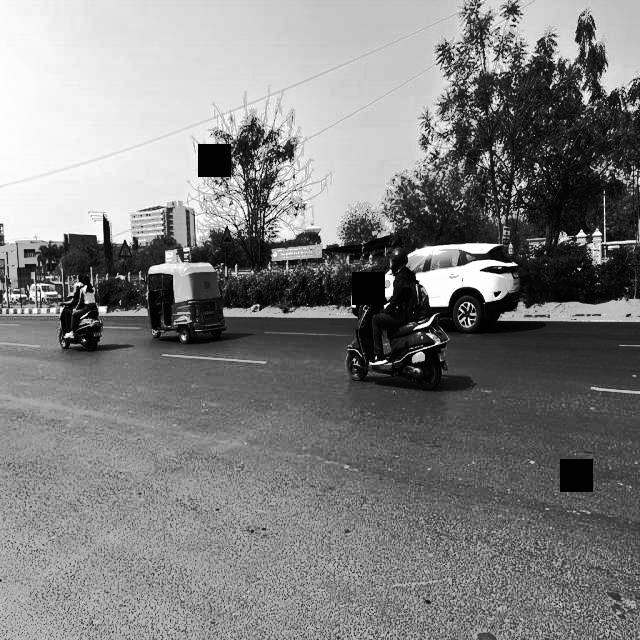Auto-Rickshaw: (132, 253, 232, 347)
Bike: (335, 252, 450, 395), (48, 272, 110, 356)
Car: (407, 238, 525, 337)
